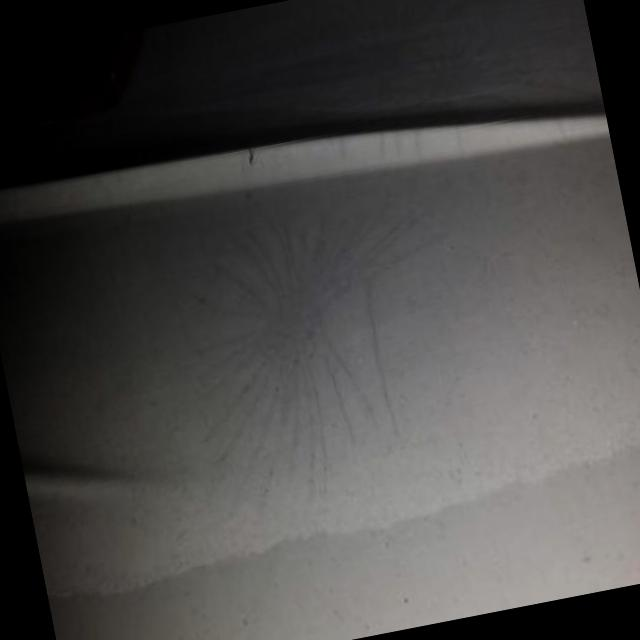crack: (197, 206, 446, 504), (363, 293, 402, 438)
